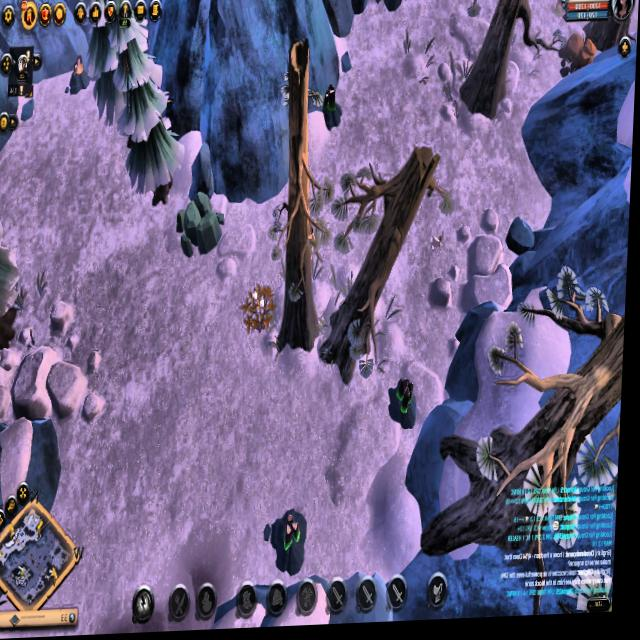copper_ore: (62, 52, 98, 96)
cotton: (243, 283, 280, 341)
limestone: (556, 36, 600, 82)
sandstone: (173, 192, 229, 263)
tin_ore: (272, 516, 317, 575), (386, 381, 426, 432), (309, 89, 349, 134)
